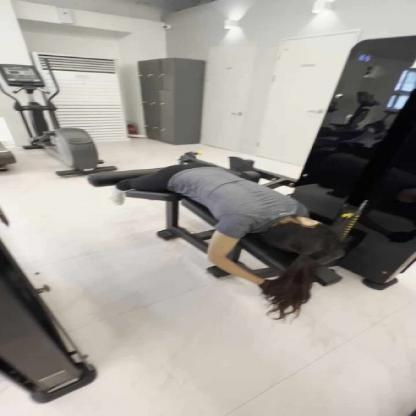reg curl machine: (76, 35, 416, 323)
